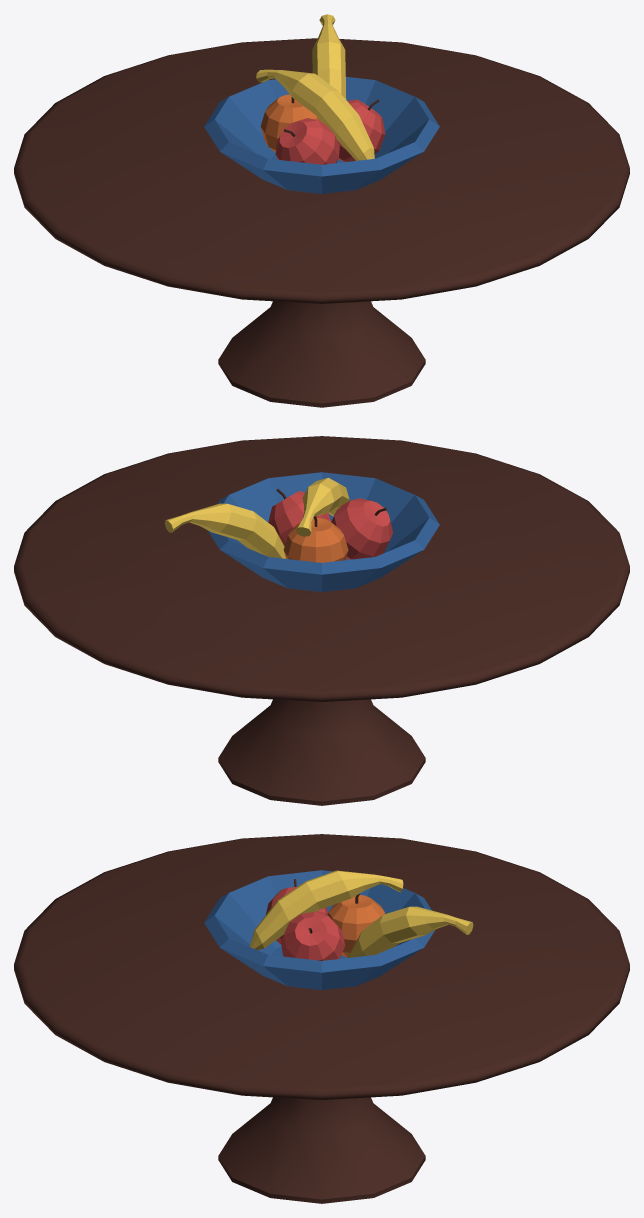
File: Fruit Table.fbx
The picture shows the model from 3 angles, top to bottom: view 1: azimuth 30°, elevation 25°; view 2: azimuth 150°, elevation 25°; view 3: azimuth 270°, elevation 25°; orthographic projection.
Visible parts, largest first — view 1: FruitBowl1; view 2: FruitBowl1; view 3: FruitBowl1.
Boxes of the visible parts, x1,y1,x2,y2 form: FruitBowl1: [14, 14, 629, 407]; FruitBowl1: [14, 436, 629, 805]; FruitBowl1: [14, 834, 629, 1203].
Size of the model in its own units: 17.65 by 9.04 by 17.65.
2 materials, 2 textured.
